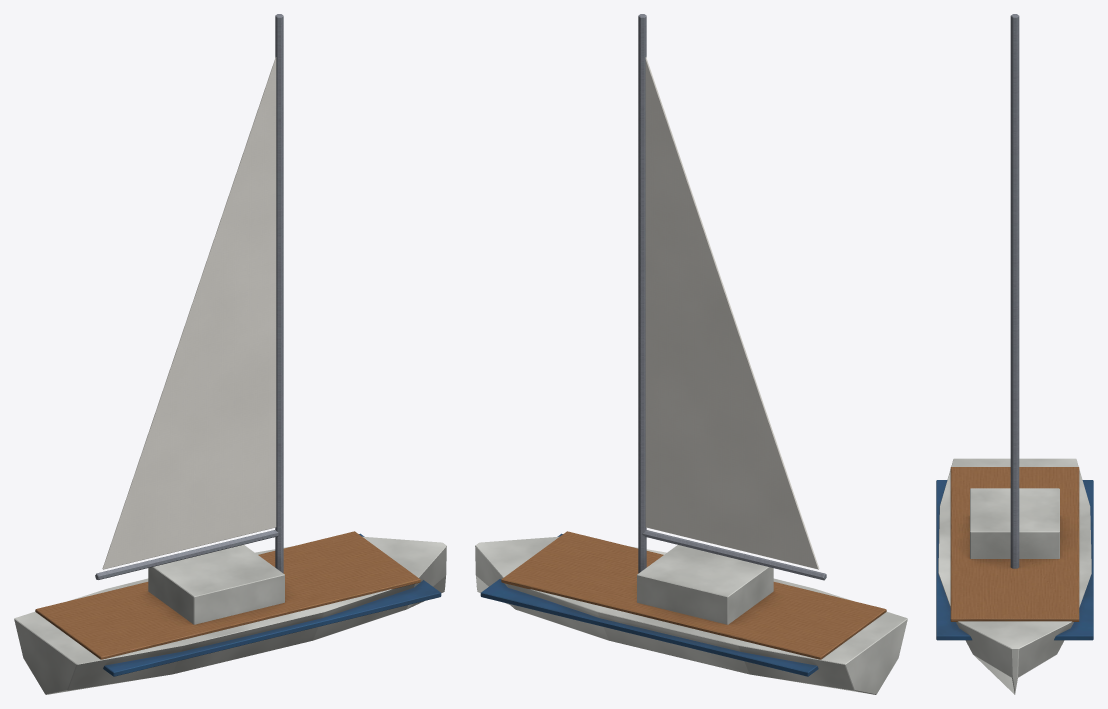
File: segelbat_tex.glb
3 renders of one model, left to right at view 1: azimuth 30°, elevation 25°; view 2: azimuth 150°, elevation 25°; view 3: azimuth 270°, elevation 25°, orthographic. The views are drawn at different scales.
Visible parts, largest first — view 1: segelbat; view 2: segelbat; view 3: segelbat.
Part boxes in pixels (x1,y1,x2,y2): segelbat: [14, 14, 446, 694]; segelbat: [475, 14, 907, 694]; segelbat: [936, 14, 1093, 694].
Bounding box in the file's own units: 7 × 10.55 × 2.45.
5 materials, 5 textured.
